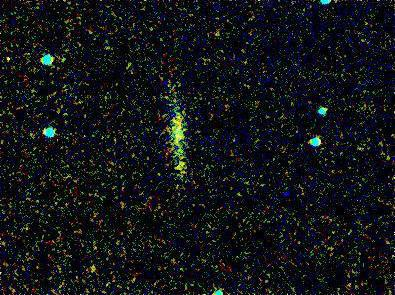star: (162, 154, 192, 184)
